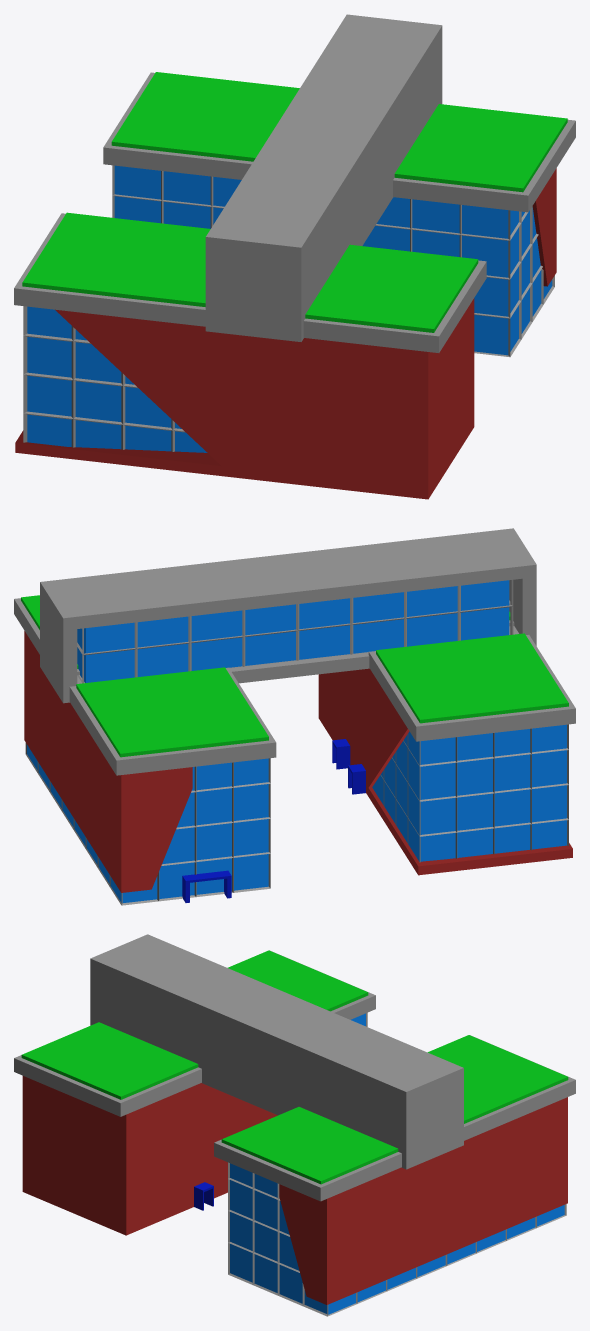
3 views of the same model, one above another, from view 1: azimuth 30°, elevation 25°; view 2: azimuth 150°, elevation 25°; view 3: azimuth 270°, elevation 25° (orthographic). The views are drawn at different scales.
Parts seen in each view (by area): view 1: vidro_interno005; view 2: vidro_interno005; view 3: vidro_interno005.
Part boxes in pixels (x1,y1,x2,y2): vidro_interno005: [14, 14, 575, 499]; vidro_interno005: [14, 528, 575, 905]; vidro_interno005: [14, 934, 575, 1316].
Bounding box in the file's own units: 20.64 × 8.07 × 20.64.
